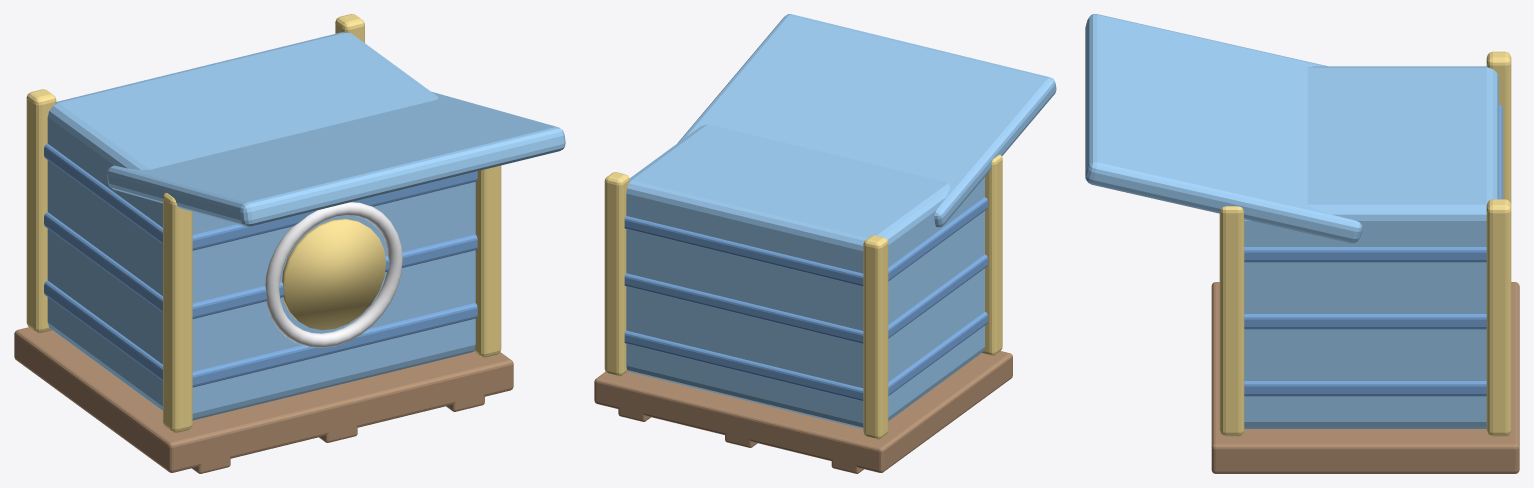
Rendered from depot_crate.glb.
3 views of the same model, side by side, from view 1: azimuth 30°, elevation 25°; view 2: azimuth 150°, elevation 25°; view 3: azimuth 270°, elevation 25° (orthographic). The views are drawn at different scales.
Parts seen in each view (by area): view 1: crate, lid; view 2: crate, lid; view 3: crate, lid.
Part boxes in pixels (x1,y1,x2,y2): crate: (14, 14, 513, 473); lid: (107, 91, 565, 226); crate: (594, 124, 1012, 473); lid: (678, 14, 1056, 227); crate: (1211, 51, 1519, 473); lid: (1085, 14, 1362, 243).
Bounding box in the file's own units: 1.9 × 1.68 × 2.11.
